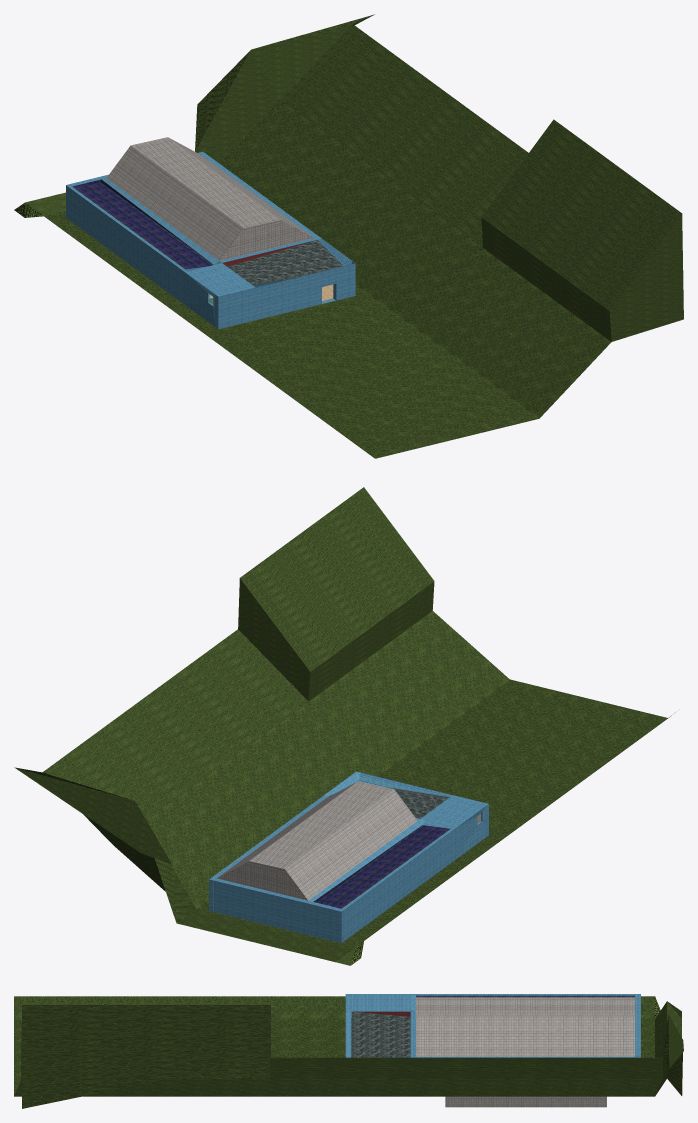
The model's file is poolday_lvl1.glb.
3 views of the same model, one above another, from view 1: azimuth 30°, elevation 25°; view 2: azimuth 150°, elevation 25°; view 3: azimuth 270°, elevation 25° (orthographic). The views are drawn at different scales.
Parts seen in each view (by area): view 1: floor, building, building_roof; view 2: floor, building, building_roof; view 3: floor, building_roof, building.
Boxes of the visible parts, x1=… form: floor: x1=14, y1=14, x2=683, y2=458; building: x1=66, y1=151, x2=355, y2=329; building_roof: x1=106, y1=137, x2=313, y2=260; floor: x1=14, y1=487, x2=675, y2=965; building: x1=209, y1=771, x2=488, y2=942; building_roof: x1=217, y1=781, x2=417, y2=900; floor: x1=14, y1=996, x2=683, y2=1108; building_roof: x1=416, y1=997, x2=634, y2=1056; building: x1=345, y1=994, x2=640, y2=1107.
Bounding box in the file's own units: 89 × 45.51 × 150.
11 materials, 11 textured.
